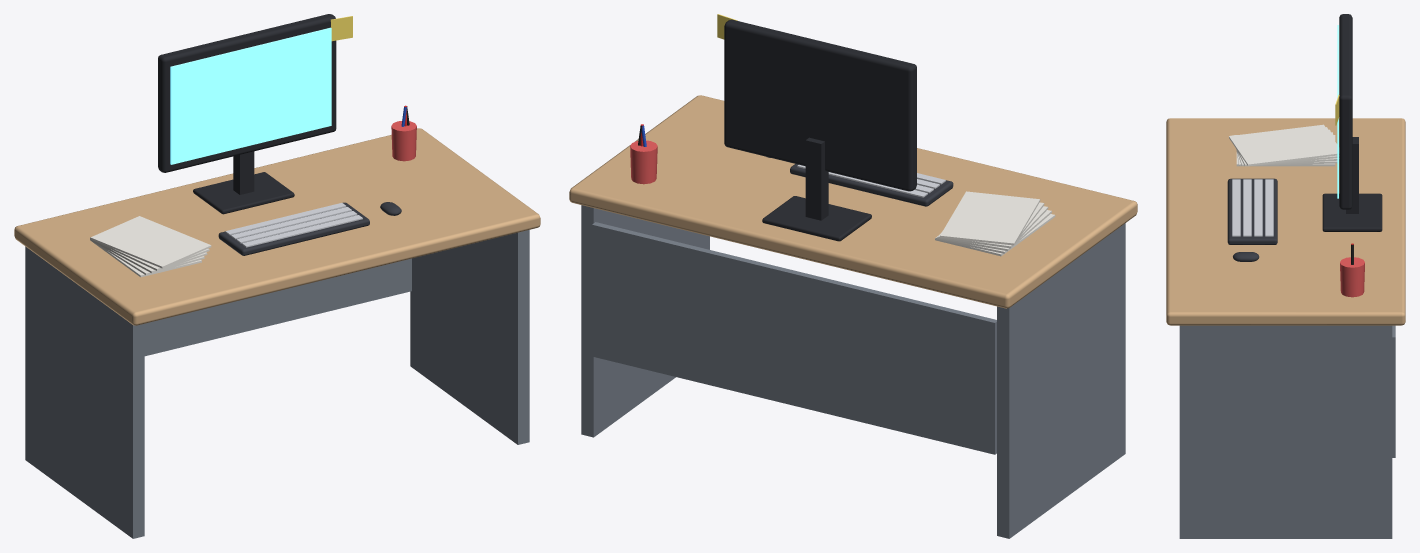
Rendered from desk_setup.glb.
3 renders of one model, left to right at view 1: azimuth 30°, elevation 25°; view 2: azimuth 150°, elevation 25°; view 3: azimuth 270°, elevation 25°, orthographic. The views are drawn at different scales.
Visible parts, largest first — view 1: main, screen; view 2: main; view 3: main, screen.
Part boxes in pixels (<box>): main: <box>14,14,540,538</box>; screen: <box>170,27,331,164</box>; main: <box>569,14,1137,538</box>; main: <box>1166,14,1405,538</box>; screen: <box>1337,25,1338,198</box>.
Bounding box in the file's own units: 1.4 × 1.29 × 0.72.
